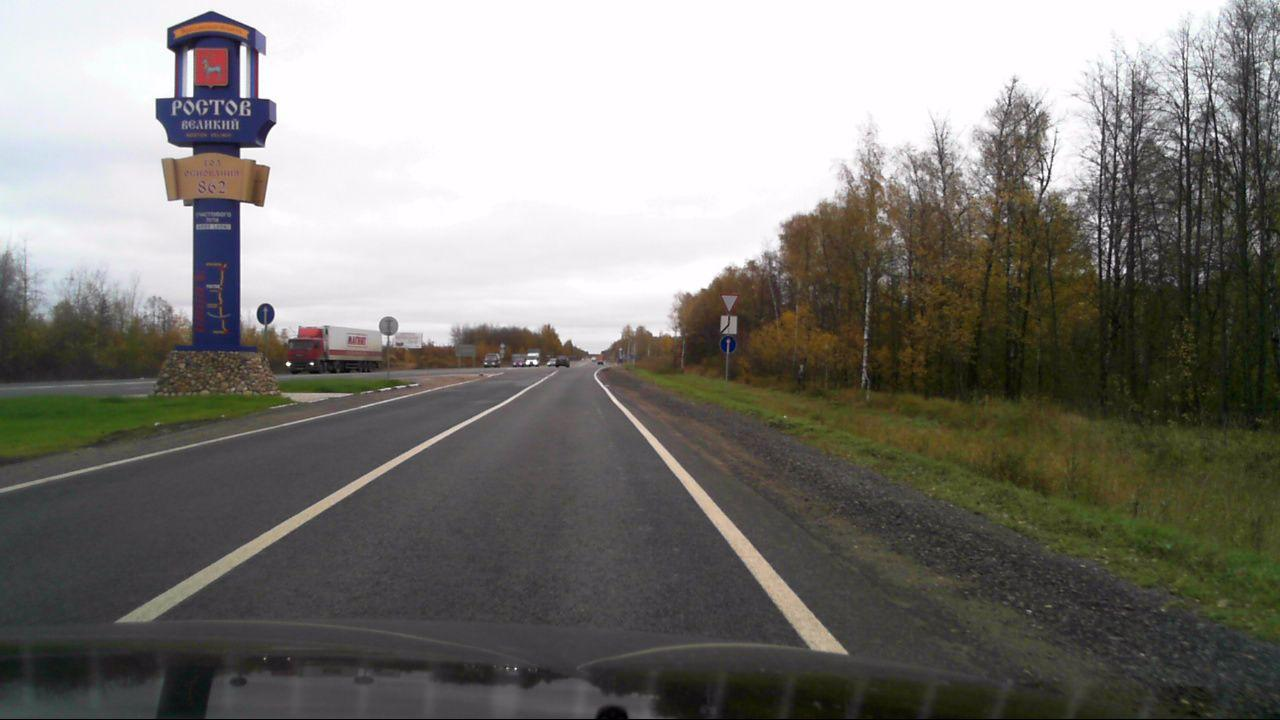road_sign: (717, 292, 740, 314), (718, 314, 740, 336), (257, 303, 275, 325), (718, 335, 737, 353)
